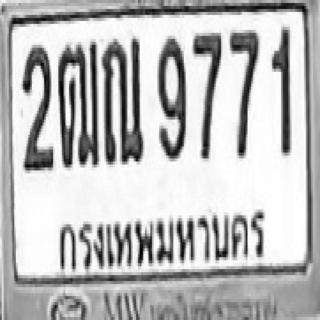A18: (57, 39, 98, 168)
A19: (101, 36, 143, 164)
N01: (270, 26, 290, 154)
N02: (21, 45, 53, 170)
N07: (228, 27, 258, 156), (191, 30, 221, 158)
N09: (156, 33, 186, 158)
P04: (54, 210, 273, 270)
